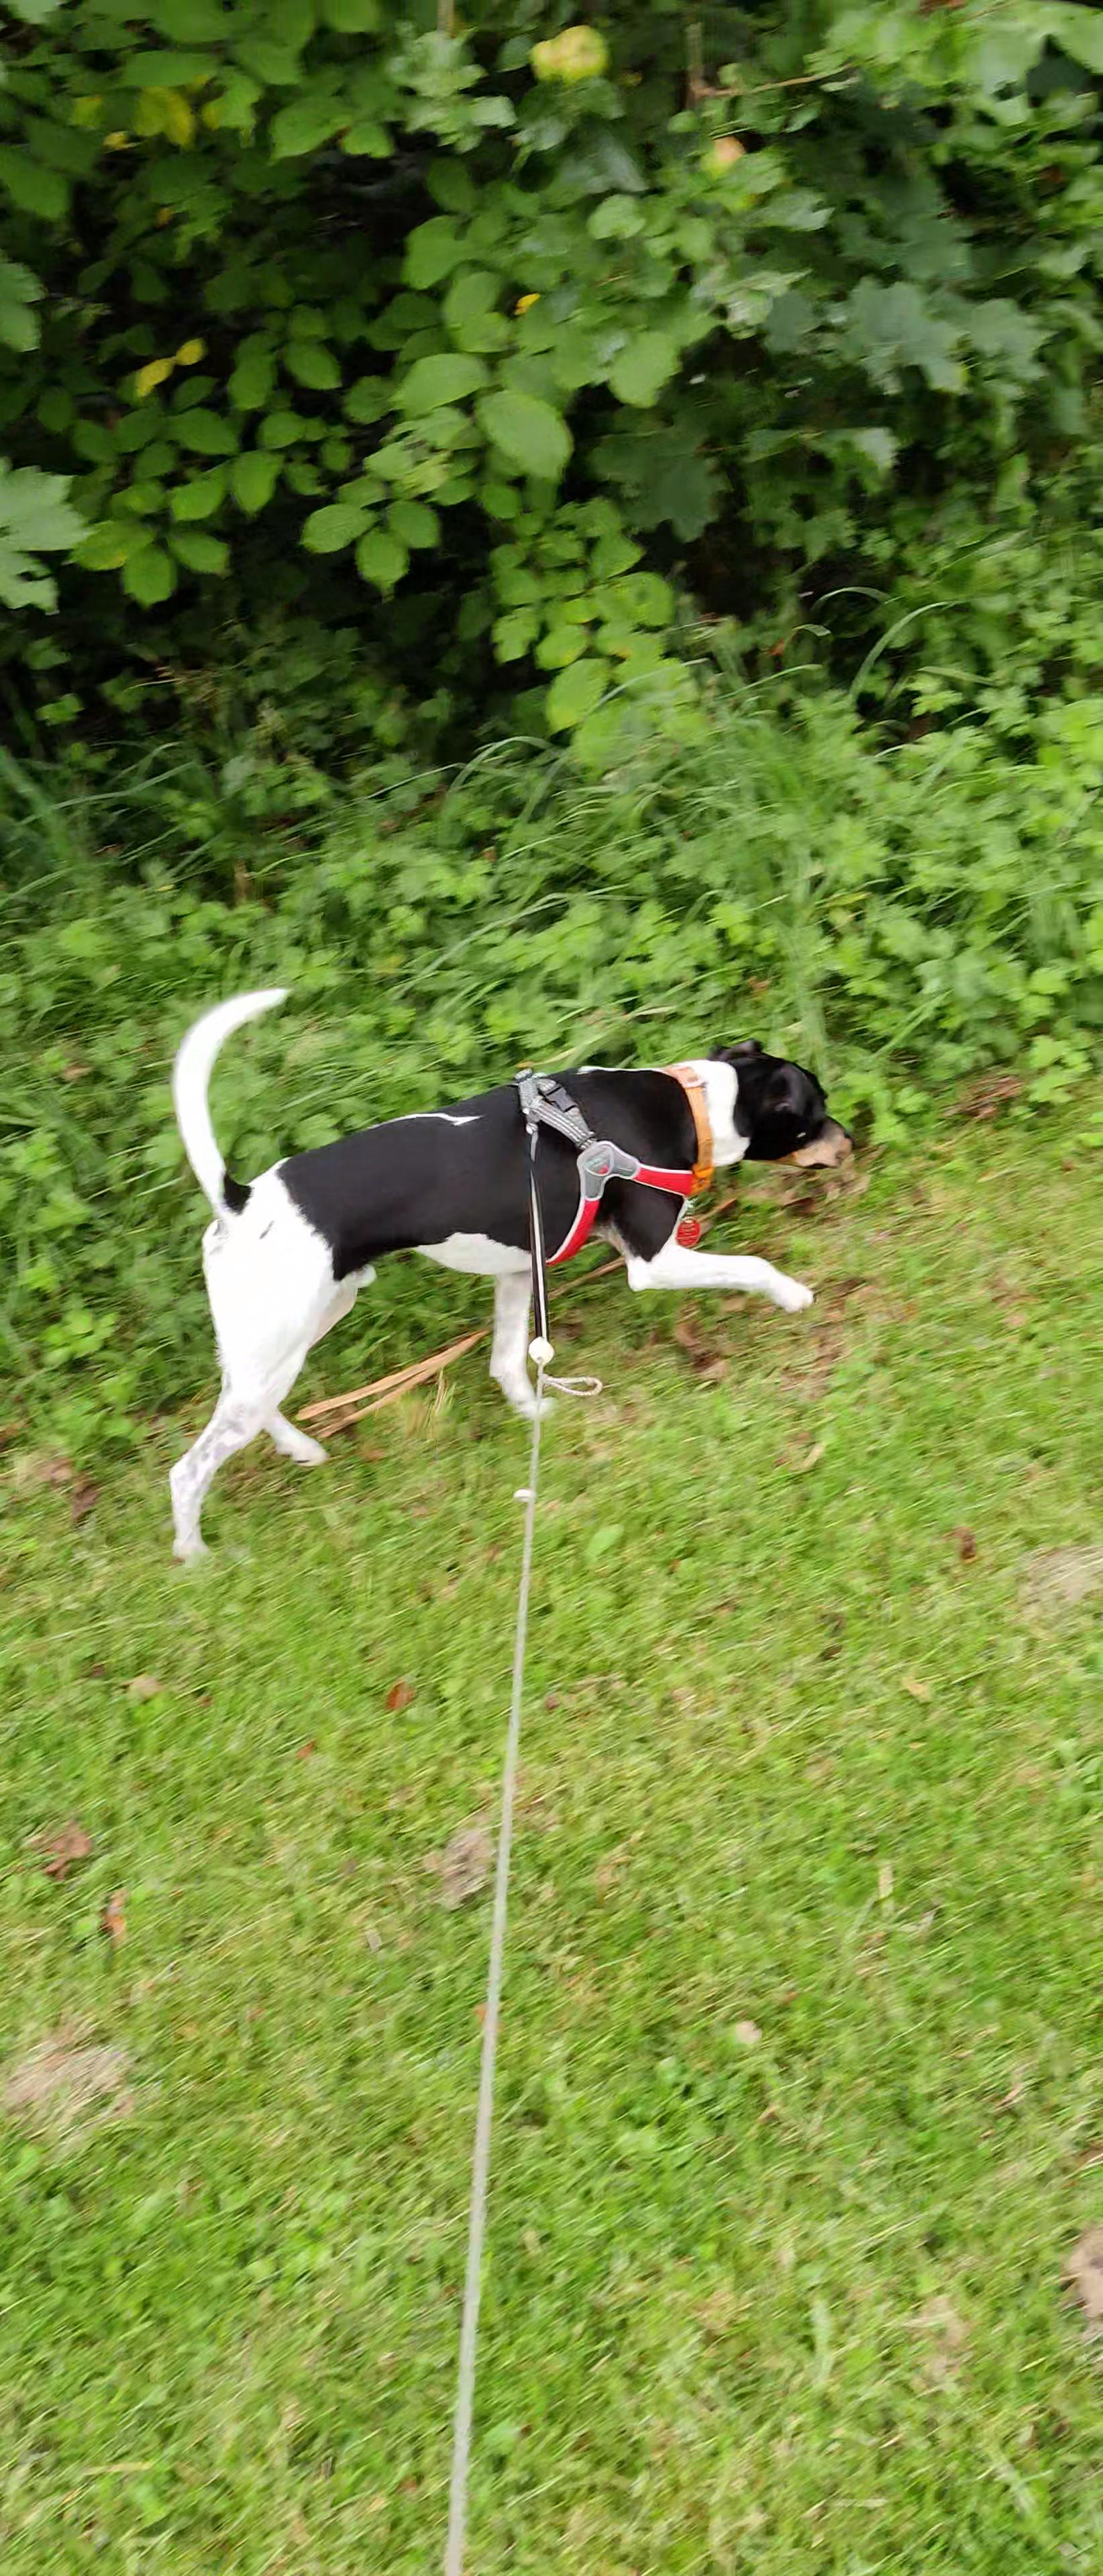Dog: (156, 974, 858, 1556)
